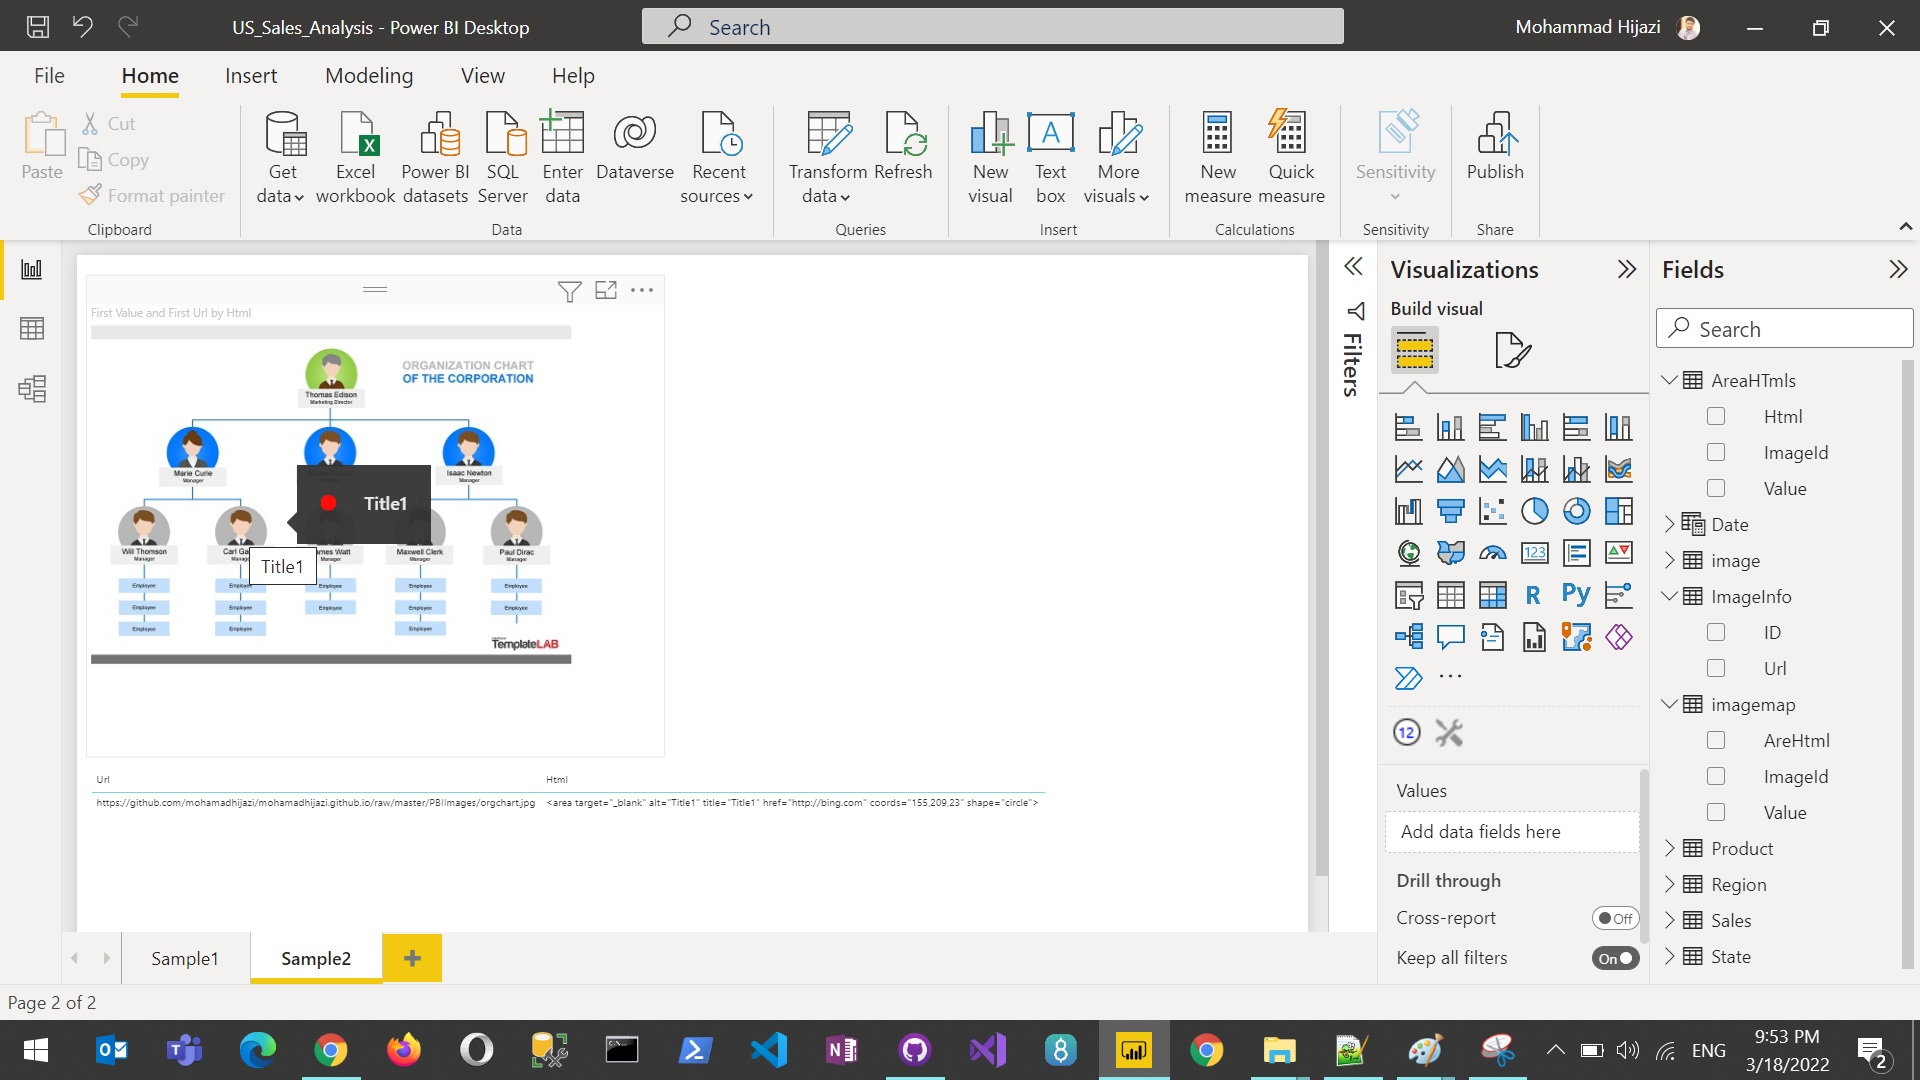

The dashboard page shown, as its layout file describes it:
{"tool":"powerbi","page":{"name":"Sample2","canvas":[1280,720],"ordinal":1},"visuals":[{"type":"imagemap4AD8D1E1DA0943AEB18E1E59B92001A9","fields":{"imageurl":["Min(imageInfo.Url)"],"htmlcolumn":["AreaHTml.Html"],"value":["Min(AreaHTml.Value)"]},"box":[9.4,20.3,601.8,470.8],"z":0},{"type":"tableEx","fields":{"Values":["imageInfo.Url","AreaHTml.Html"]},"box":[9.4,500.5,1247.3,219.8],"z":1}]}

Visuals, with their boxes on the page's 1280x720 design canvas (x1, y1, x2, y2). These are canvas units, not pixel positions in the 1920x1080 screenshot, which may show the page scaled, cropped or inside an application window:
imagemap4AD8D1E1DA0943AEB18E1E59B92001A9 - Min(imageInfo.Url) x AreaHTml.Html: select_region(9, 20, 611, 491)
tableEx - imageInfo.Url x AreaHTml.Html: select_region(9, 500, 1257, 720)
